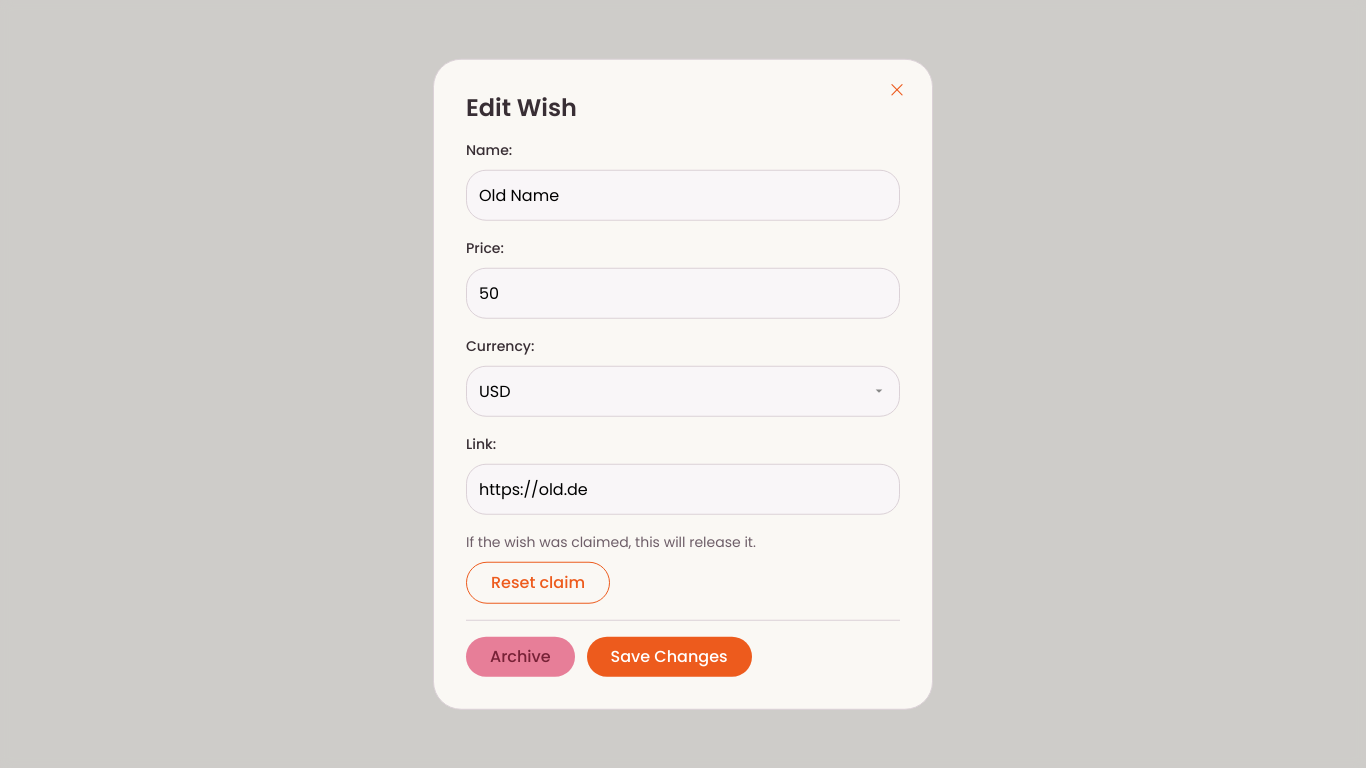
Scenario: ItemModal › edit mode › shows confirmation when Reset claim clicked
The image size is (1366, 768).
Click the button "Reset claim" at (538, 582), box x1=466 y1=561 x2=610 y2=603
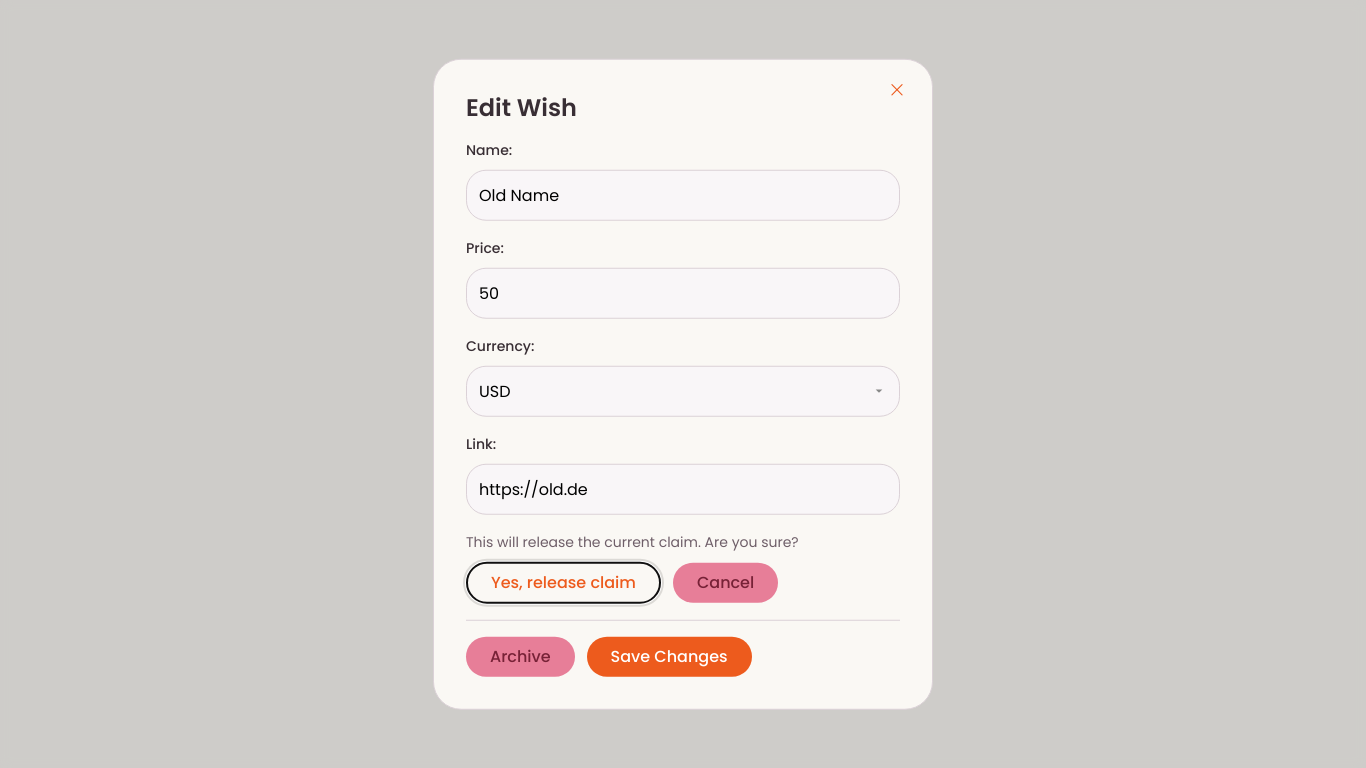
Now the text "This will release the current claim. Are you sure?" is shown, box x1=466 y1=532 x2=799 y2=552
Now the button "Yes, release claim" is shown, box x1=466 y1=561 x2=661 y2=603
